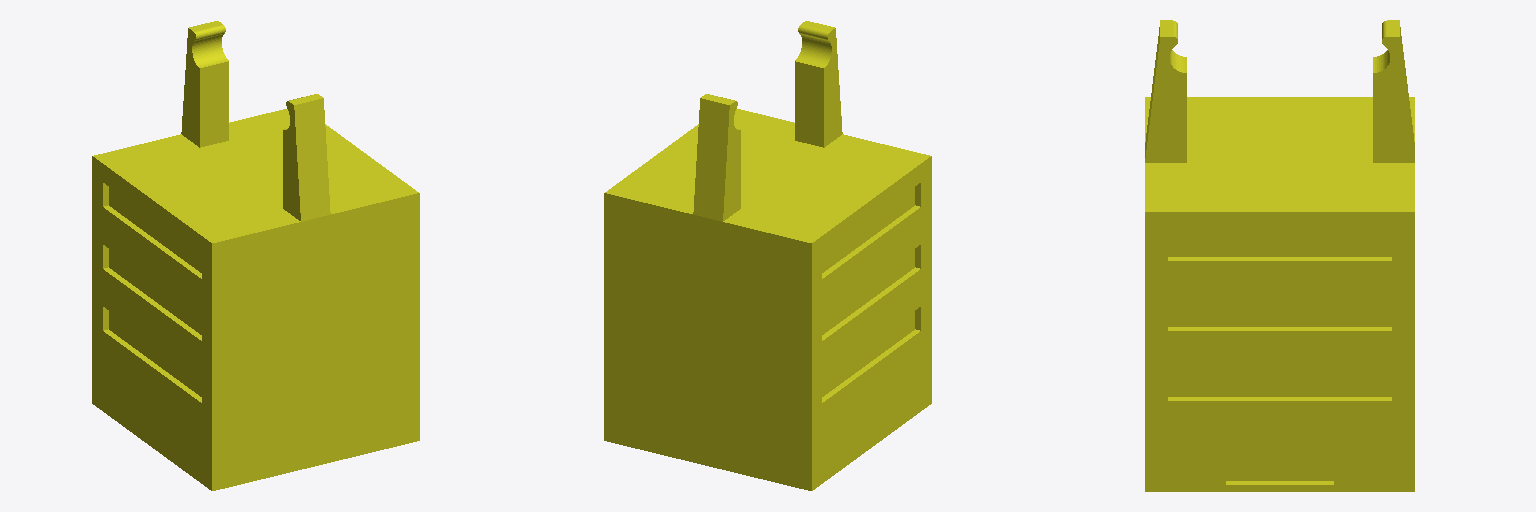
URDF robot description (cube.urdf):
<?xml version="1.0" ?>
<robot name="cube.urdf">
    <link name="legobrick">
        <contact>
            <lateral_friction value="1.0"/>
            <rolling_friction value="0.0"/>
            <contact_cfm value="0.0"/>
            <contact_erp value="1.0"/>
        </contact>
        <inertial>
            <origin rpy="0 0 0" xyz="0.0 0.0 0.0"/>
            <mass value="0.1"/>
            <inertia ixx="1" ixy="0" ixz="0" iyy="1" iyz="0" izz="1"/>
        </inertial>
        <visual>
            <origin rpy="1.570796 0 0" xyz="-0.001152925257731959 0.014222730670103094 -0.006989078608247398"/>
            <geometry>
                <mesh filename="Building_Snap_Lower.obj" scale="0.001 0.001 0.001"/>
            </geometry>
            <material name="yellow">
                <color rgba="0.8510 0.8510 0.1804 1"/>
            </material>
        </visual>
        <collision>
            <origin rpy="1.570796 0 0" xyz="-0.001152925257731959 0.014222730670103094 -0.006989078608247398"/>
            <geometry>
                <mesh filename="Building_Snap_Lower.obj" scale="0.001 0.001 0.001"/>
            </geometry>
        </collision>
    </link>
</robot>

--- Facts derived from the render (not from the file) ---
3 views of the same robot in one strip: view 1: azimuth 30°, elevation 25°; view 2: azimuth 150°, elevation 25°; view 3: azimuth 270°, elevation 25° (orthographic).
Robot: cube.urdf — 1 links, 0 joints (none); root link legobrick; default pose: all joints at 0.
Visible links, largest first — view 1: legobrick; view 2: legobrick; view 3: legobrick.
Boxes of the visible links, bbox=[...] form: legobrick: bbox=[92, 21, 419, 490]; legobrick: bbox=[604, 21, 931, 490]; legobrick: bbox=[1145, 20, 1414, 491].
Bounding box of the posed robot: 0.035 × 0.035 × 0.058 m (x, y, z).
Meshes: 1 distinct files referenced, 1 mesh visuals loaded (1 OBJ).